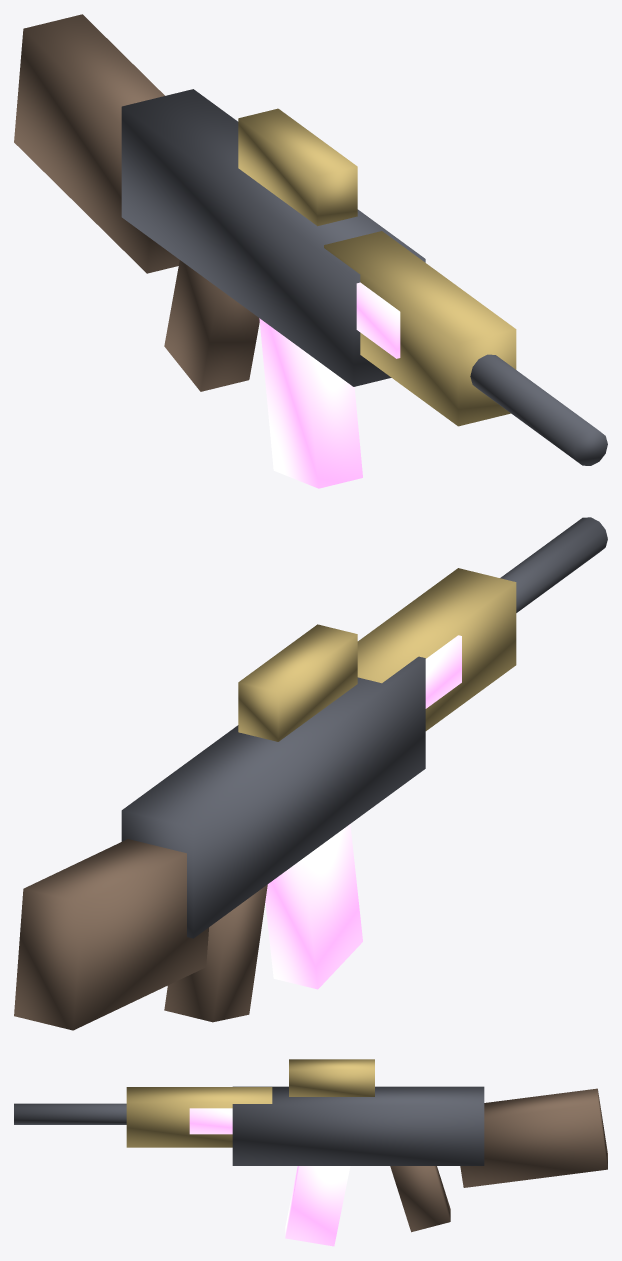
File: weapon_aura_rifle.glb
The picture shows the model from 3 angles, top to bottom: view 1: azimuth 30°, elevation 25°; view 2: azimuth 150°, elevation 25°; view 3: azimuth 270°, elevation 25°; orthographic projection. The views are drawn at different scales.
Visible parts, largest first — view 1: Rifle_Receiver, Rifle_Stock, Rifle_Shroud, Rifle_Mag, Rifle_Sight, Rifle_Grip, Rifle_Barrel, Rifle_CrystalCore; view 2: Rifle_Receiver, Rifle_Stock, Rifle_Shroud, Rifle_Mag, Rifle_Sight, Rifle_Grip, Rifle_Barrel, Rifle_CrystalCore; view 3: Rifle_Receiver, Rifle_Stock, Rifle_Shroud, Rifle_Mag, Rifle_Sight, Rifle_Grip, Rifle_Barrel, Rifle_CrystalCore.
Part boxes in pixels (x1,y1,x2,y2): Rifle_Receiver: (121, 89, 425, 386); Rifle_Stock: (14, 14, 179, 273); Rifle_Shroud: (324, 231, 516, 426); Rifle_Mag: (259, 318, 362, 488); Rifle_Sight: (238, 108, 357, 226); Rifle_Grip: (164, 260, 259, 391); Rifle_Barrel: (470, 354, 607, 465); Rifle_CrystalCore: (356, 282, 400, 358); Rifle_Receiver: (121, 656, 425, 938); Rifle_Stock: (14, 839, 208, 1030); Rifle_Shroud: (357, 568, 516, 730); Rifle_Mag: (265, 824, 362, 989); Rifle_Sight: (238, 624, 357, 741); Rifle_Grip: (164, 884, 267, 1022); Rifle_Barrel: (500, 517, 607, 612); Rifle_CrystalCore: (425, 635, 461, 708); Rifle_Receiver: (232, 1086, 484, 1165); Rifle_Stock: (460, 1088, 607, 1187); Rifle_Shroud: (126, 1087, 272, 1147); Rifle_Mag: (285, 1166, 350, 1246); Rifle_Sight: (289, 1059, 374, 1096); Rifle_Grip: (390, 1166, 450, 1232); Rifle_Barrel: (14, 1103, 126, 1124); Rifle_CrystalCore: (189, 1108, 232, 1134).
Bounding box in the file's own units: 0.068 × 0.293 × 0.8966.
